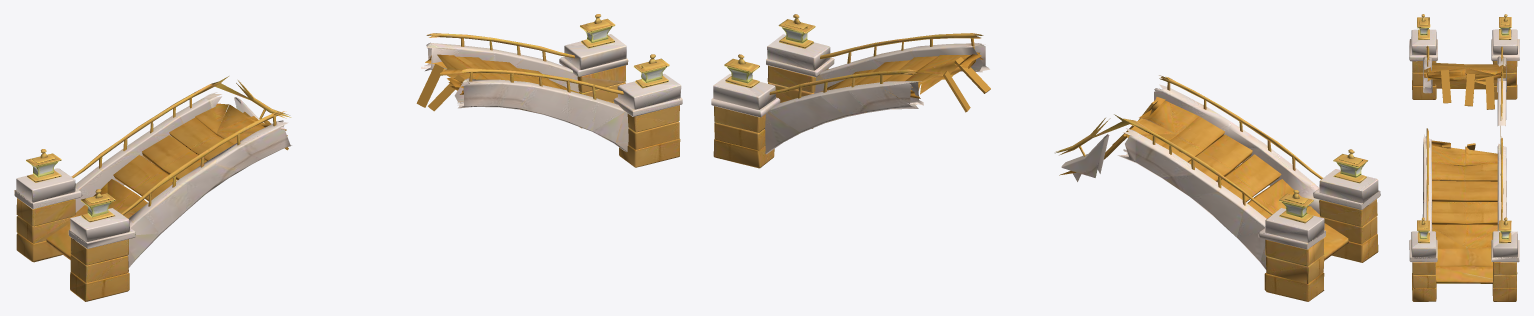
File: bridge-broken.glb
3 renders of one model, left to right at view 1: azimuth 30°, elevation 25°; view 2: azimuth 150°, elevation 25°; view 3: azimuth 270°, elevation 25°, orthographic. The views are drawn at different scales.
Parts seen in each view (by area): view 1: bridge-broken; view 2: bridge-broken; view 3: bridge-broken.
Part boxes in pixels (left/top/right/bottom): bridge-broken: left=14, top=14, right=682, bottom=301; bridge-broken: left=711, top=14, right=1380, bottom=301; bridge-broken: left=1409, top=14, right=1519, bottom=301.
Bounding box in the file's own units: 14 × 3.01 × 3.
1 material, 1 textured.
